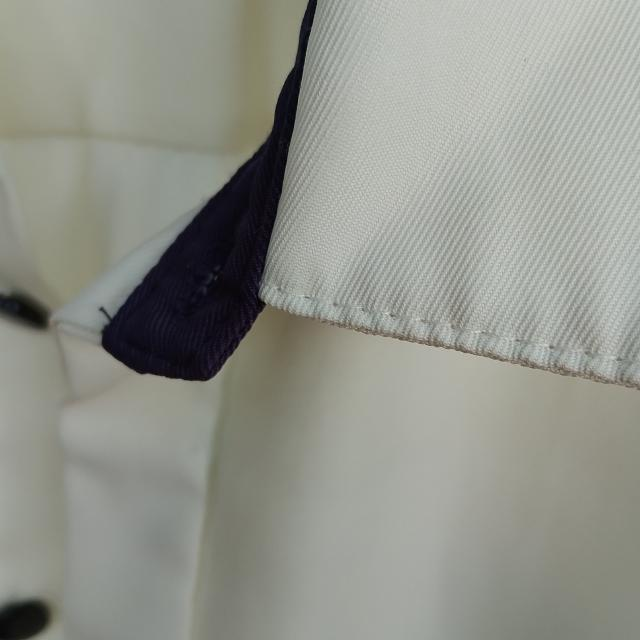education_male_uniform: (2, 3, 640, 516)
